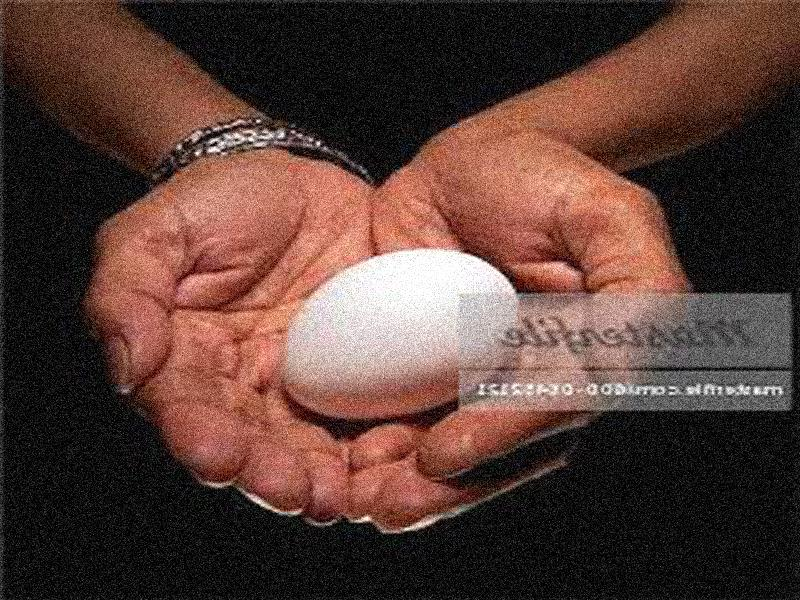Eggs: (280, 248, 518, 421)
